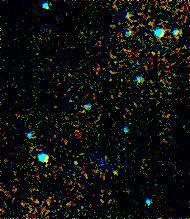star: (100, 158, 130, 188)
